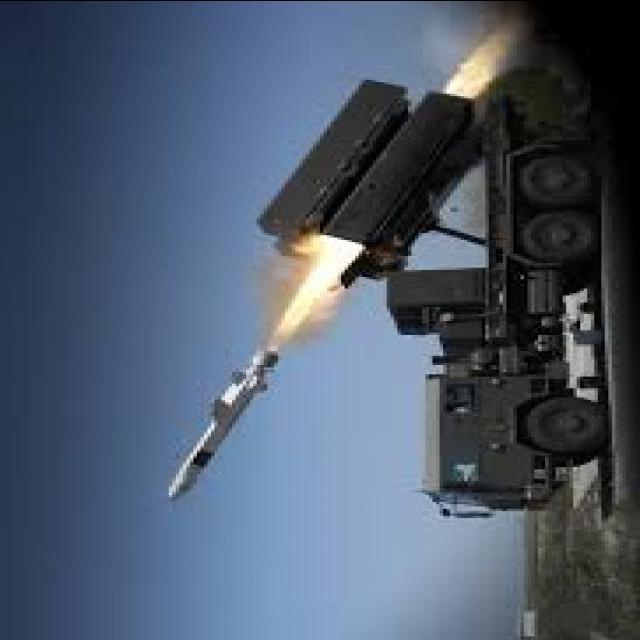missile: (162, 335, 294, 506)
